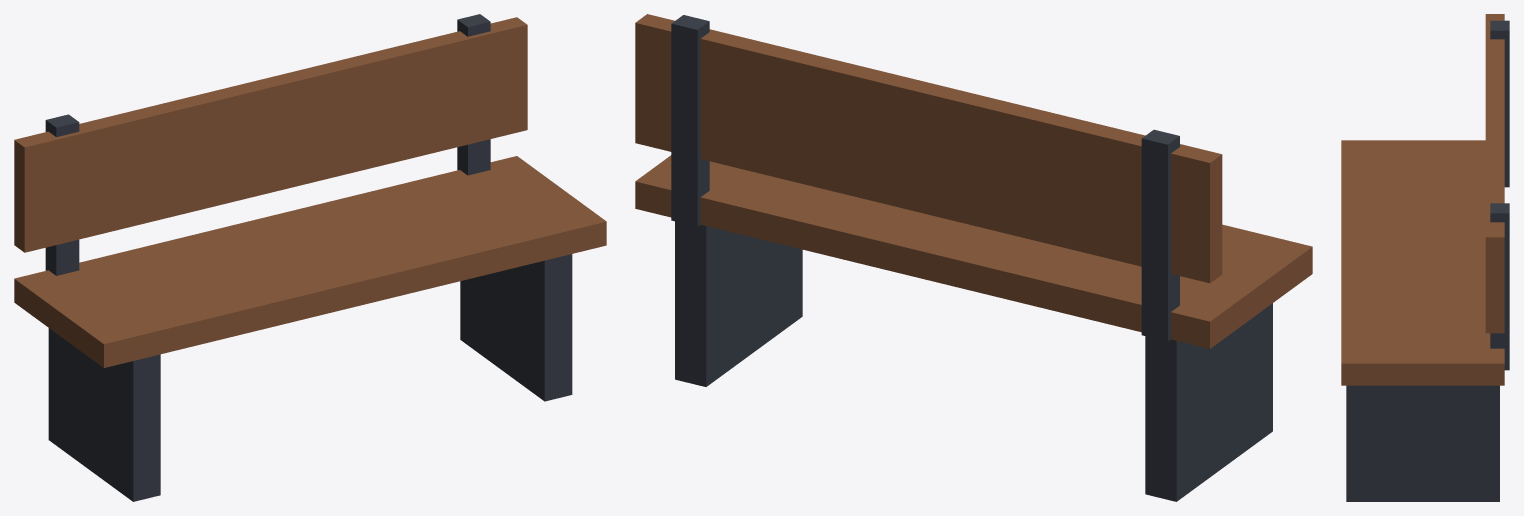
Rendered from b-bench.glb.
The picture shows the model from 3 angles, left to right: view 1: azimuth 30°, elevation 25°; view 2: azimuth 150°, elevation 25°; view 3: azimuth 270°, elevation 25°; orthographic projection. The views are drawn at different scales.
Visible parts, largest first — view 1: b-bench; view 2: b-bench; view 3: b-bench.
Part boxes in pixels (bbox=[...]): b-bench: bbox=[14, 14, 606, 501]; b-bench: bbox=[635, 14, 1312, 501]; b-bench: bbox=[1341, 14, 1509, 501].
Size of the model in its own units: 1.1 by 0.66 by 0.35.
